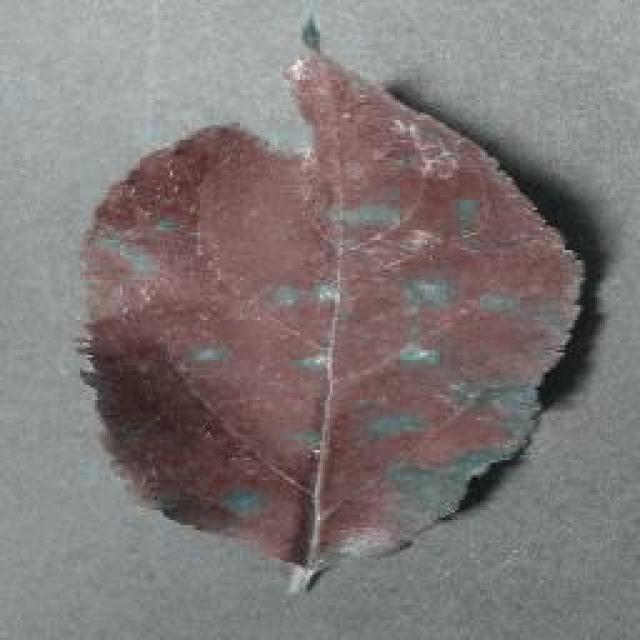apple scab disease: (75, 15, 590, 593)
